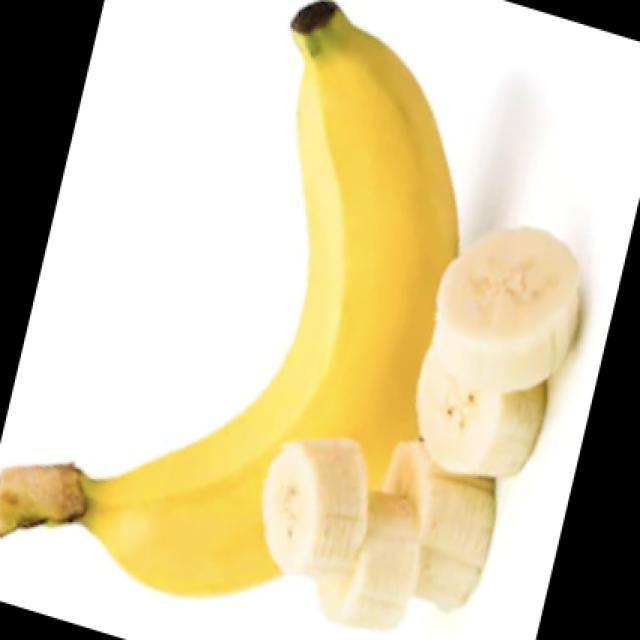Banana: (16, 3, 461, 603), (433, 224, 586, 389), (390, 438, 496, 616), (416, 339, 546, 470), (262, 434, 372, 578), (316, 492, 420, 630)
